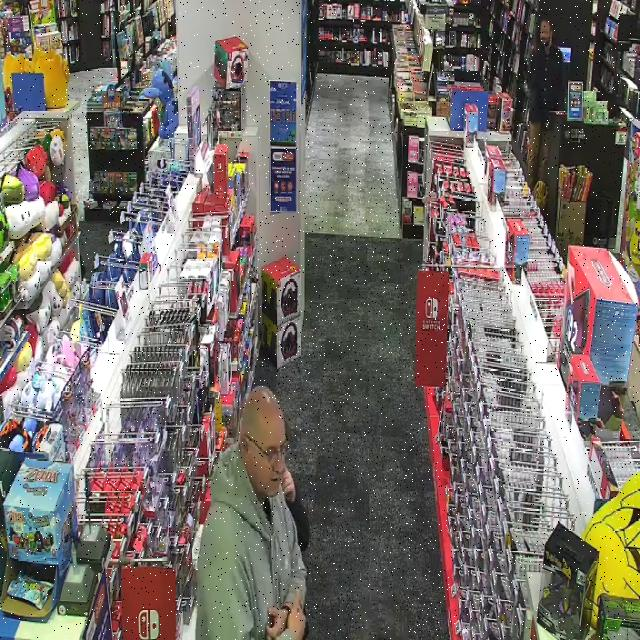hands: (287, 593, 306, 639), (267, 607, 288, 638), (282, 468, 295, 503)
person: (197, 388, 306, 639), (528, 19, 563, 188)
